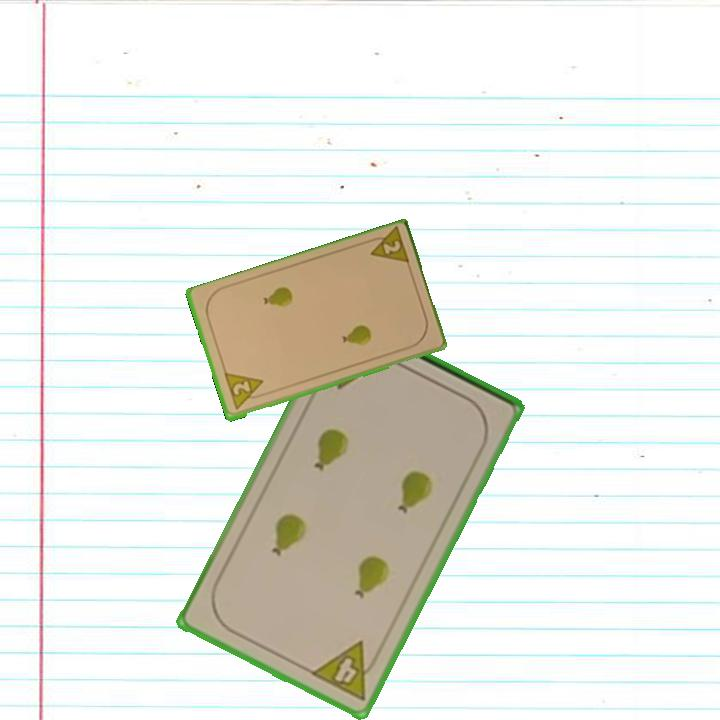2p: (362, 225, 412, 269), (221, 370, 269, 414)
4p: (307, 637, 385, 704)
